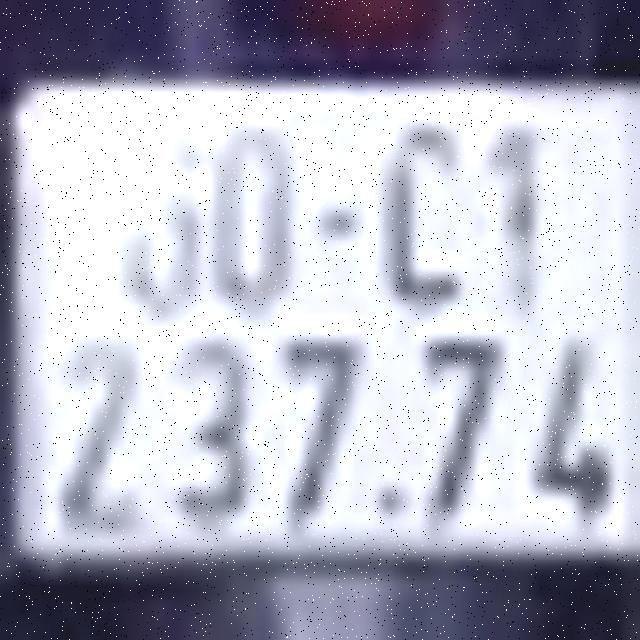0: (212, 118, 295, 313)
1: (485, 118, 544, 316)
2: (55, 335, 146, 531)
3: (169, 330, 252, 525)
4: (532, 330, 617, 526)
6: (129, 126, 204, 316)
7: (274, 329, 361, 532), (415, 329, 504, 522)
C: (382, 117, 468, 307)
